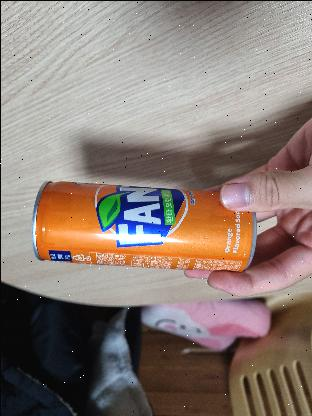Can: (28, 173, 250, 274)
